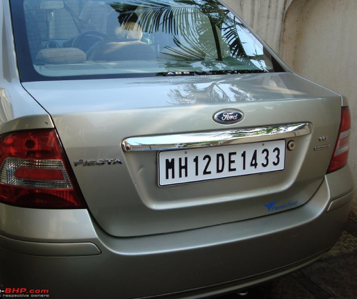MH12DE1433: (157, 139, 286, 185)
